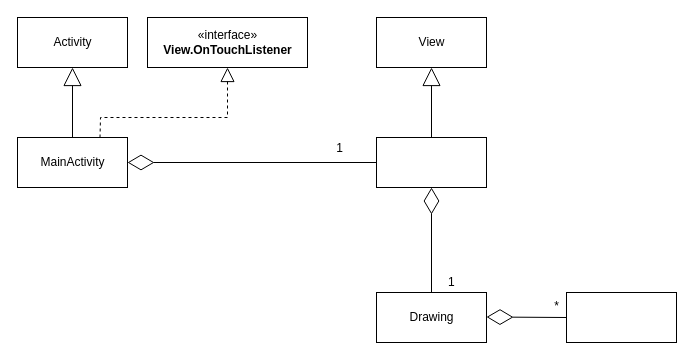
Image size: 694x361. Some labels were removed from this diagram. The centre of each missing label's shape, as x and y in pixels:
DrawingView: (431,162)
FreeStyleLine: (621,317)
